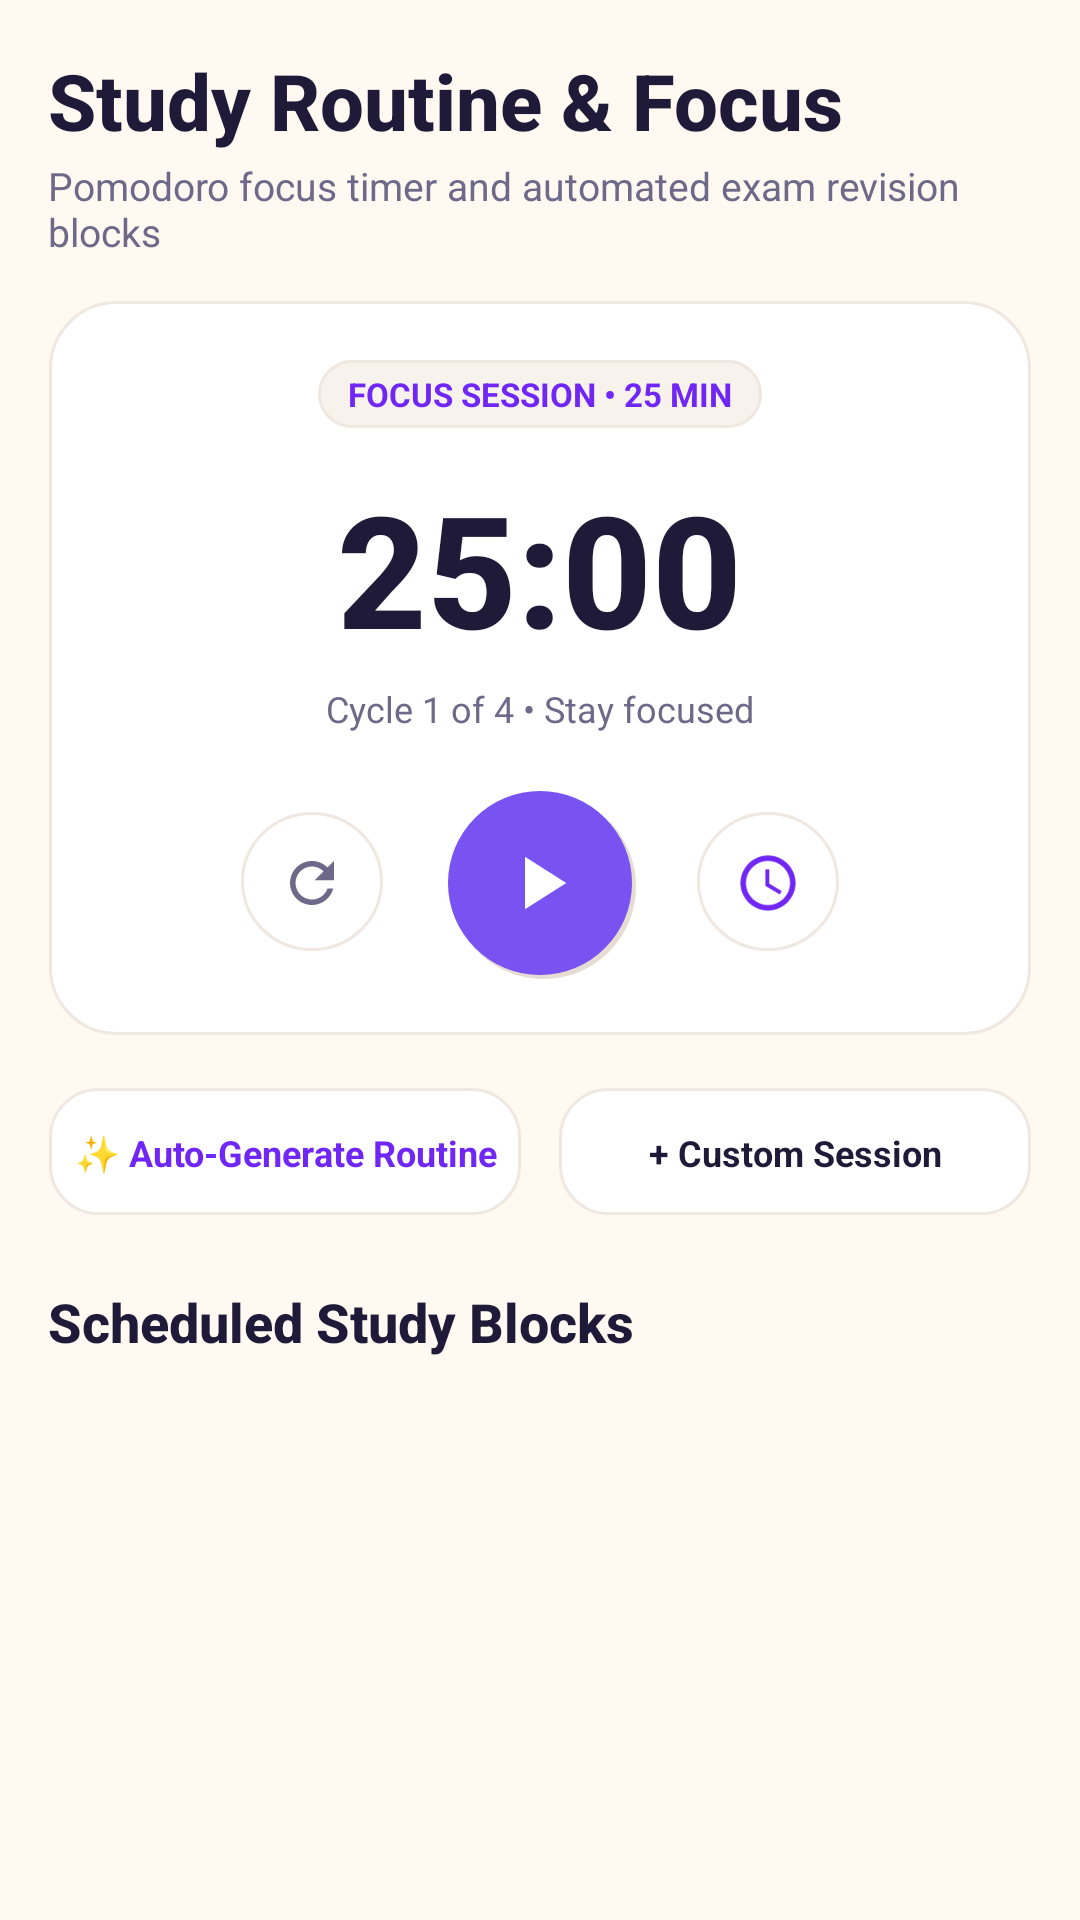

Point at icon controls on the screen. Image size 1080×1920, points as (x,y).
play: (545,883)
refresh: (312,883)
